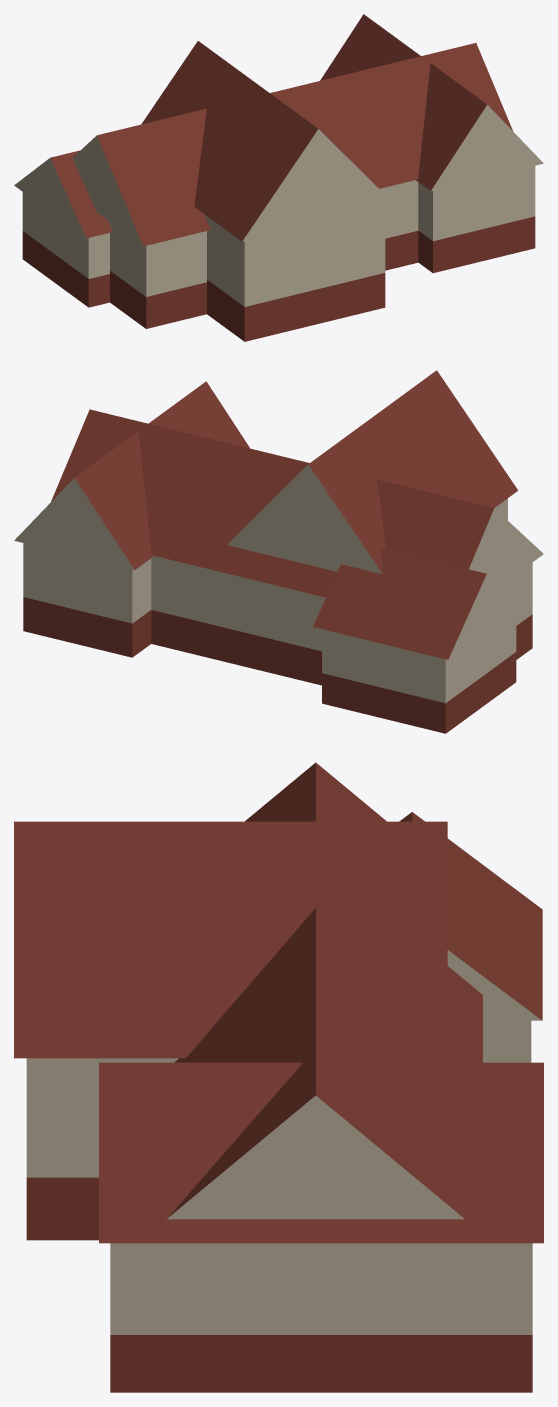
The model's file is house-315-massing.glb.
3 views of the same model, one above another, from view 1: azimuth 30°, elevation 25°; view 2: azimuth 150°, elevation 25°; view 3: azimuth 270°, elevation 25° (orthographic). The views are drawn at different scales.
Parts seen in each view (by area): view 1: house-315-massing; view 2: house-315-massing; view 3: house-315-massing.
Boxes of the visible parts, <box> form: house-315-massing: <box>14,14,543,341</box>; house-315-massing: <box>14,370,543,733</box>; house-315-massing: <box>14,762,543,1392</box>.
Size of the model in its own units: 14.9 by 6.95 by 9.35.
